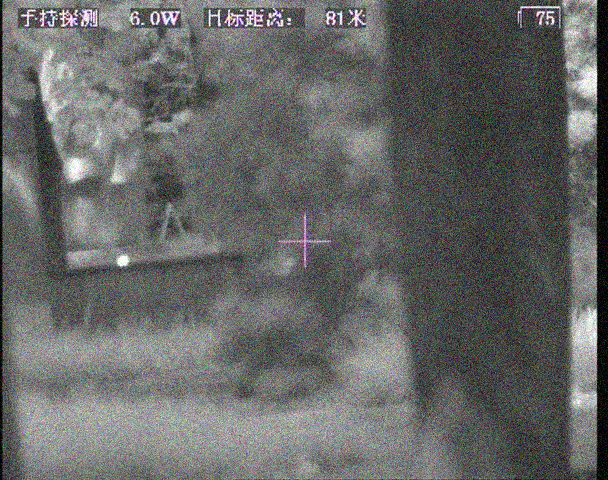my: (115, 254, 130, 267)
